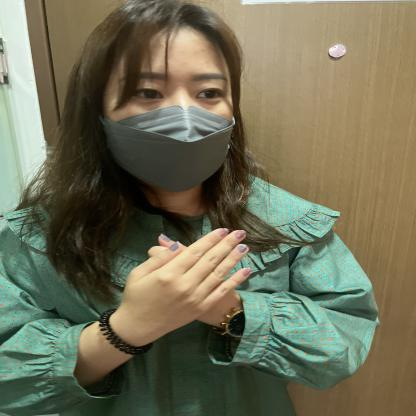Grieve: (28, 213, 309, 400)
